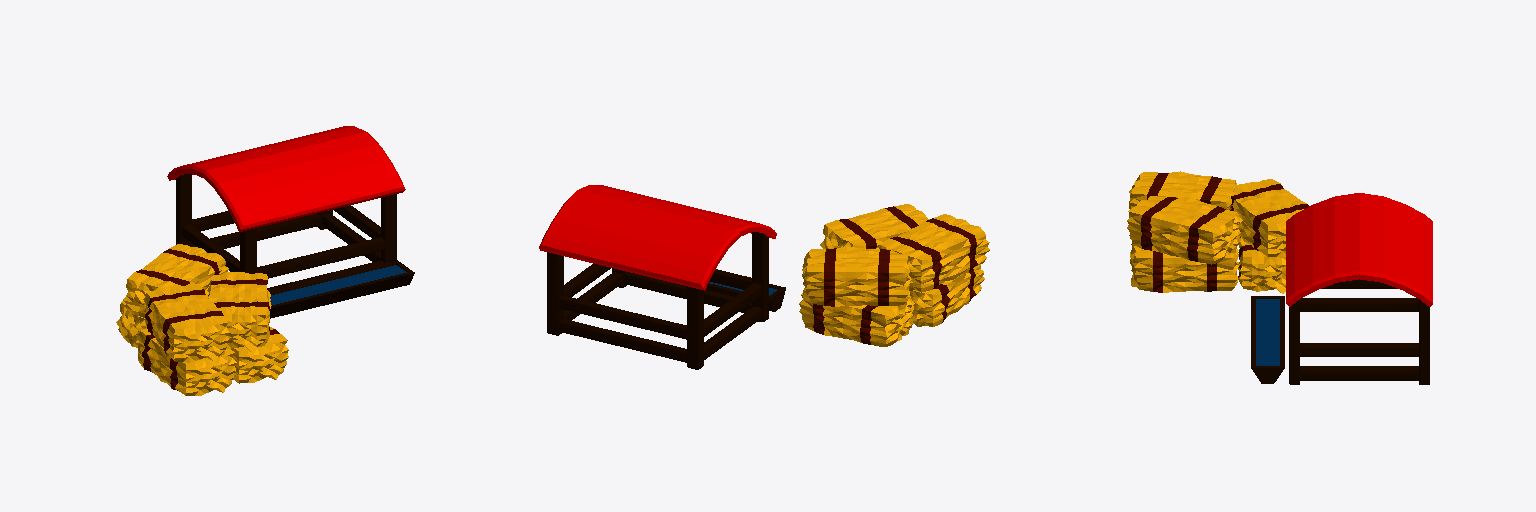
Rendered from Stables_RedTeam.obj.
The picture shows the model from 3 angles: view 1: azimuth 30°, elevation 25°; view 2: azimuth 150°, elevation 25°; view 3: azimuth 270°, elevation 25°; orthographic projection.
Visible parts, largest first — view 1: Stables_RedTeam_Cube.016; view 2: Stables_RedTeam_Cube.016; view 3: Stables_RedTeam_Cube.016.
Boxes of the visible parts, x1,y1,x2,y2 form: Stables_RedTeam_Cube.016: [116, 126, 414, 395]; Stables_RedTeam_Cube.016: [539, 185, 989, 369]; Stables_RedTeam_Cube.016: [1127, 171, 1432, 384].
Size of the model in its own units: 33.28 by 12.19 by 28.95.